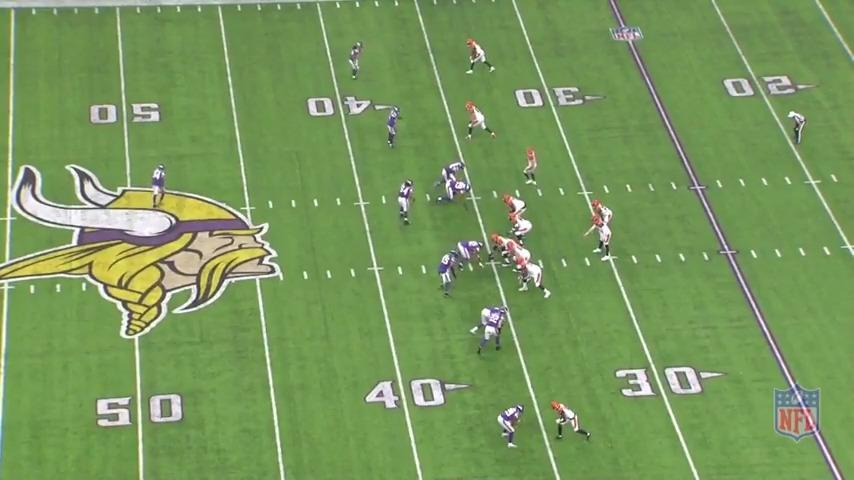player: (470, 306, 507, 359), (551, 399, 594, 444), (516, 257, 553, 301), (435, 159, 470, 205), (463, 101, 499, 143), (469, 304, 511, 336), (437, 247, 463, 298), (465, 36, 497, 77), (498, 403, 525, 451), (592, 197, 616, 245), (435, 178, 472, 209), (394, 179, 416, 228), (593, 210, 614, 260), (148, 163, 169, 212), (503, 192, 530, 228), (456, 239, 487, 270), (510, 244, 535, 282), (488, 231, 517, 263), (509, 212, 534, 248), (520, 143, 540, 188), (384, 105, 403, 151), (350, 40, 367, 81)
ref: (786, 109, 811, 149)
